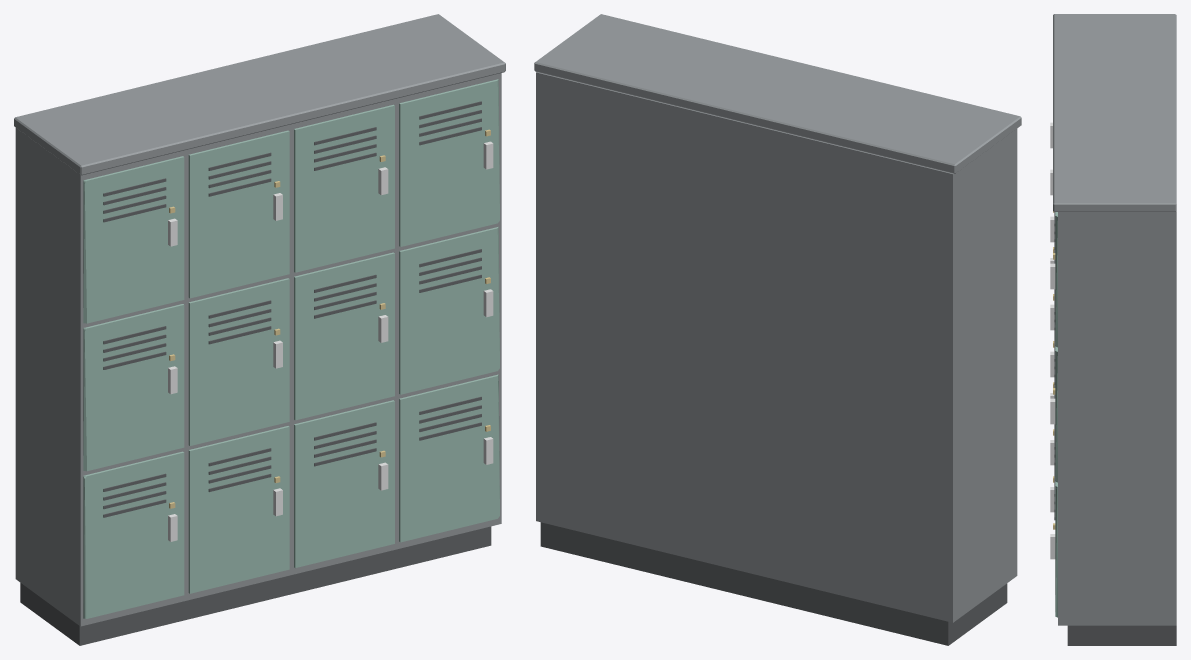
Rendered from lockers.glb.
3 renders of one model, left to right at view 1: azimuth 30°, elevation 25°; view 2: azimuth 150°, elevation 25°; view 3: azimuth 270°, elevation 25°, orthographic. The views are drawn at different scales.
Parts seen in each view (by area): view 1: lockers_vinyl_g, lockers_steel, lockers_dark, lockers_chrome; view 2: lockers_steel, lockers_dark; view 3: lockers_steel, lockers_dark, lockers_chrome, lockers_vinyl_g.
Boxes of the visible parts, x1,y1,x2,y2 form: lockers_vinyl_g: (83,79,499,618); lockers_steel: (14,14,505,626); lockers_dark: (20,101,491,645); lockers_chrome: (168,141,493,541); lockers_steel: (534,14,1021,622); lockers_dark: (540,522,1007,645); lockers_steel: (1053,14,1176,625); lockers_dark: (1054,212,1176,645); lockers_chrome: (1050,122,1055,559); lockers_vinyl_g: (1055,212,1057,617).
Bounding box in the file's own units: 1.82 × 1.99 × 0.51.
